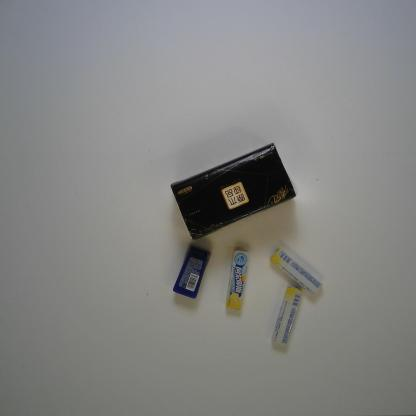Candy: (269, 248, 323, 296), (271, 284, 303, 347), (224, 248, 251, 312)
Personal Hygiene: (171, 244, 213, 300)
Tissue: (168, 141, 296, 241)
